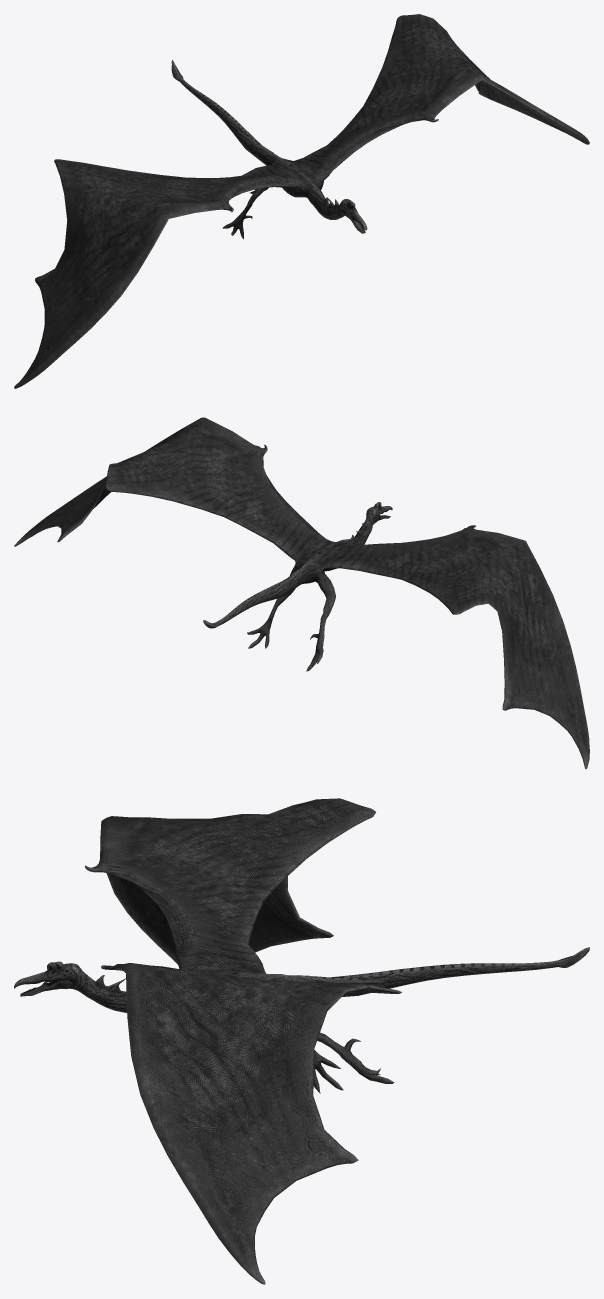
Rendered from Fellbeast_Animate_Grab_Glide_38.obj.
3 renders of one model, top to bottom at view 1: azimuth 30°, elevation 25°; view 2: azimuth 150°, elevation 25°; view 3: azimuth 270°, elevation 25°, orthographic. The views are drawn at different scales.
Parts seen in each view (by area): view 1: Fellbeast; view 2: Fellbeast; view 3: Fellbeast.
Part boxes in pixels (left/top/right/bottom): Fellbeast: left=14, top=14, right=589, bottom=388; Fellbeast: left=14, top=417, right=589, bottom=768; Fellbeast: left=14, top=798, right=589, bottom=1284.
Size of the model in its own units: 7.55 by 2.89 by 4.36.
